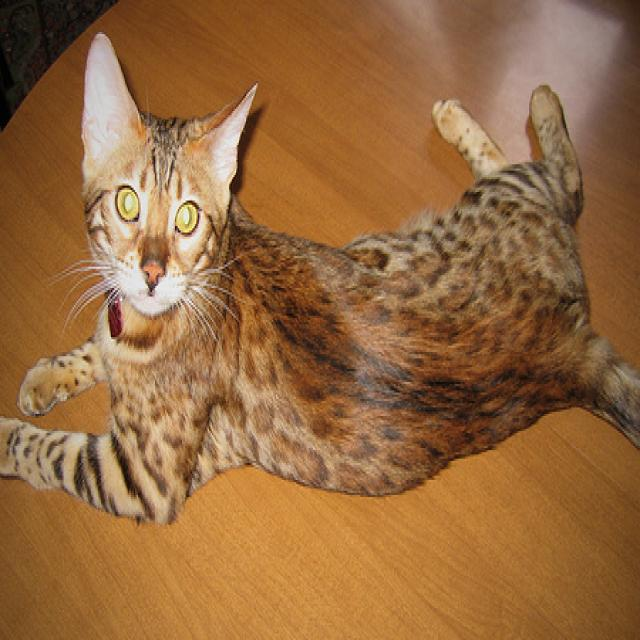Bengal: (0, 15, 640, 546)
